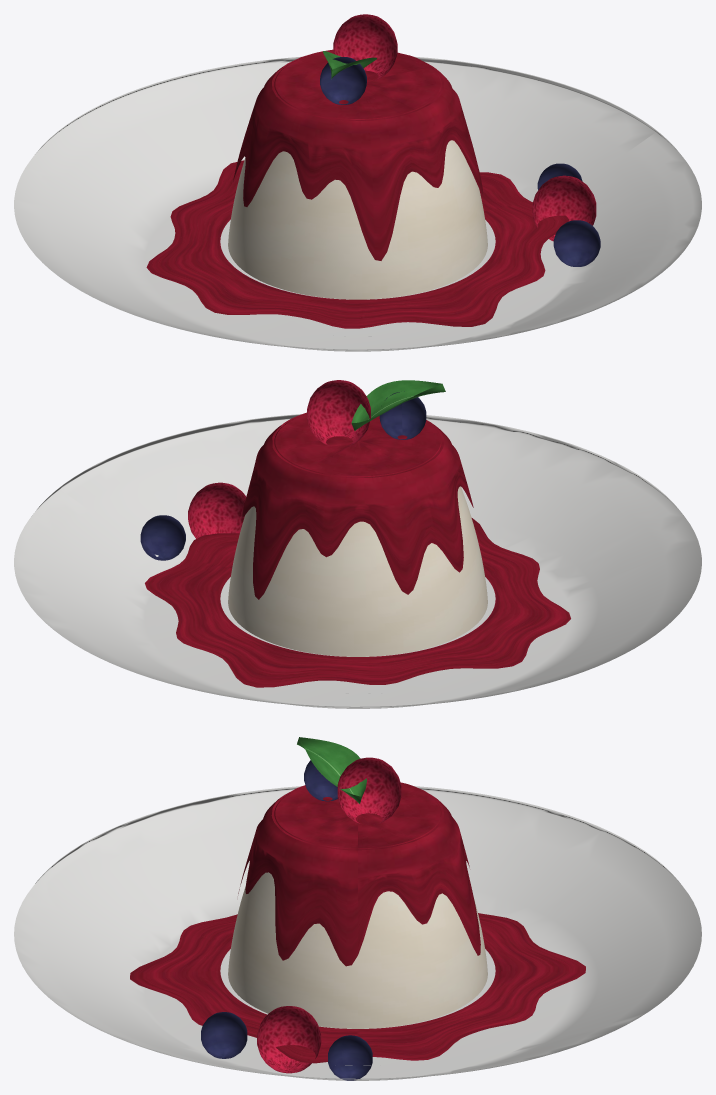
File: pannacotta.lite.glb
3 renders of one model, top to bottom at view 1: azimuth 30°, elevation 25°; view 2: azimuth 150°, elevation 25°; view 3: azimuth 270°, elevation 25°, orthographic.
Parts seen in each view (by area): view 1: pannacotta; view 2: pannacotta; view 3: pannacotta.
Part boxes in pixels (x1,y1,x2,y2): pannacotta: (14, 14, 701, 351); pannacotta: (14, 380, 701, 708); pannacotta: (14, 737, 701, 1080).
Bounding box in the file's own units: 0.18 × 0.0681 × 0.18.
6 materials, 5 textured.
